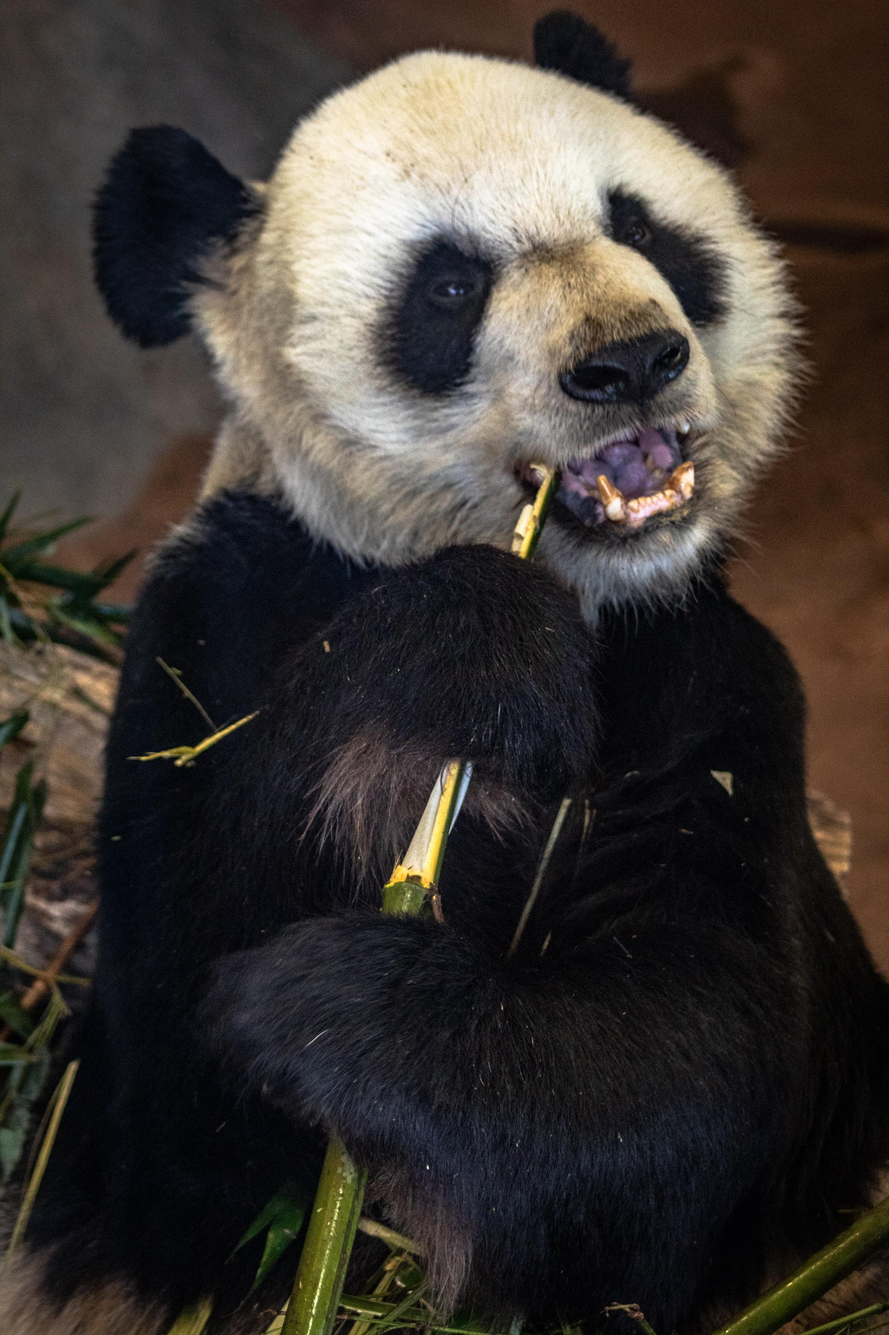panda: (89, 1, 861, 1278)
